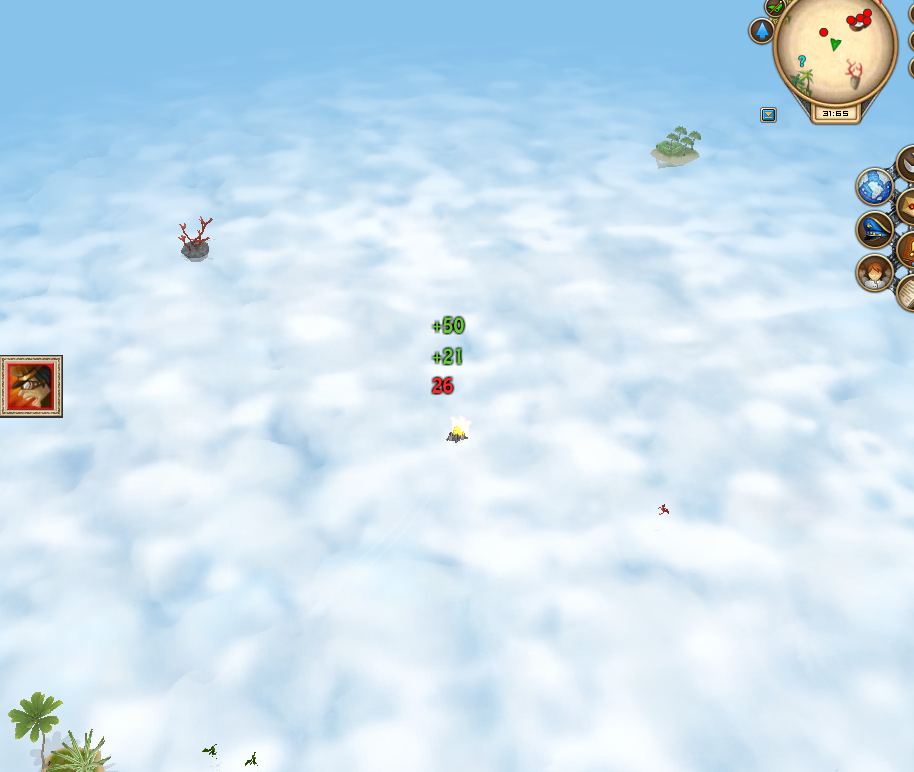palm: (5, 684, 118, 772)
